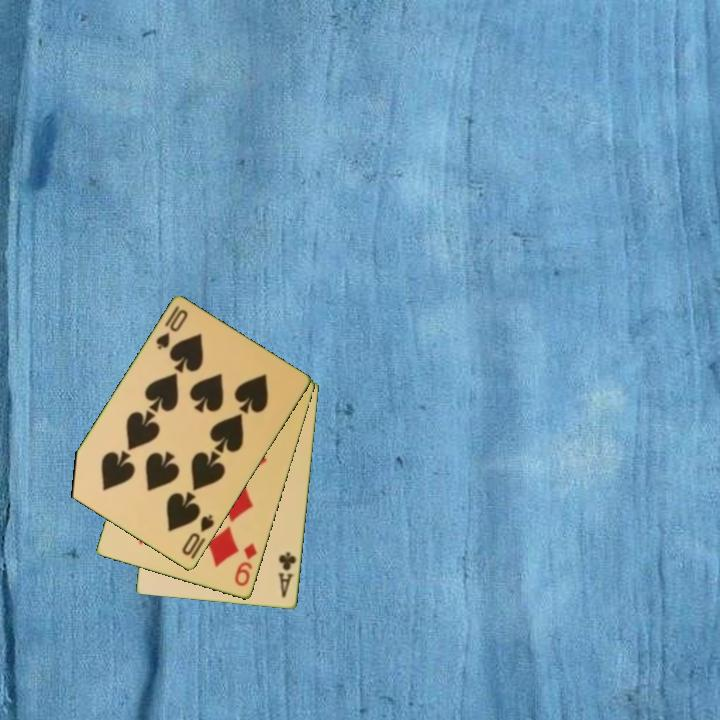10s: (152, 302, 191, 353), (178, 511, 217, 559)
9d: (231, 540, 260, 590)
Ac: (275, 549, 299, 601)
